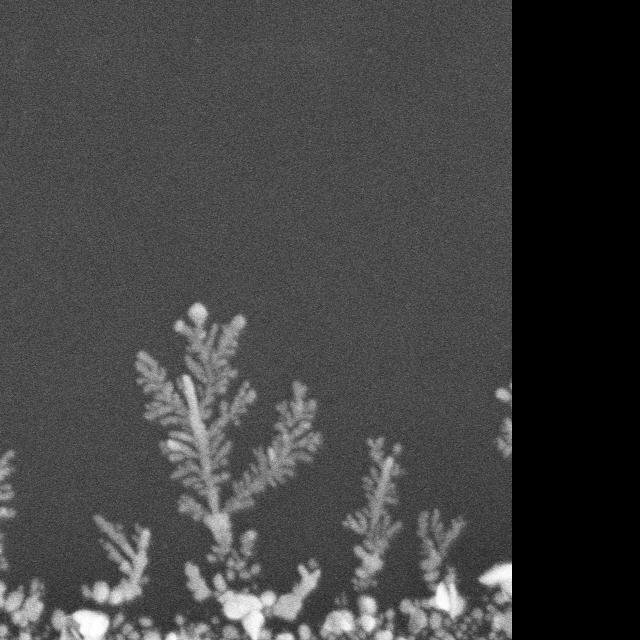Dendrite: (136, 303, 320, 583), (260, 510, 511, 640), (186, 560, 320, 639), (343, 437, 402, 591), (82, 514, 151, 607), (106, 612, 254, 640), (418, 509, 466, 589), (0, 578, 48, 640), (479, 561, 511, 637), (52, 609, 109, 640), (432, 576, 464, 617), (496, 415, 511, 459), (495, 381, 511, 406)
